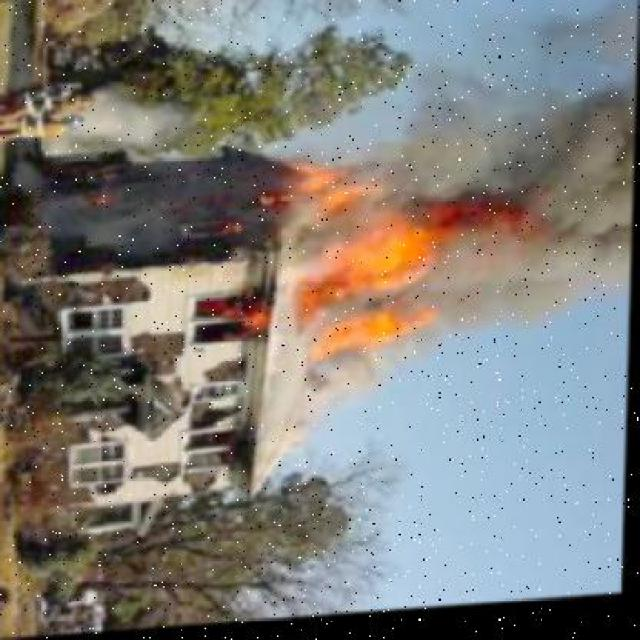fire: (287, 144, 464, 370)
